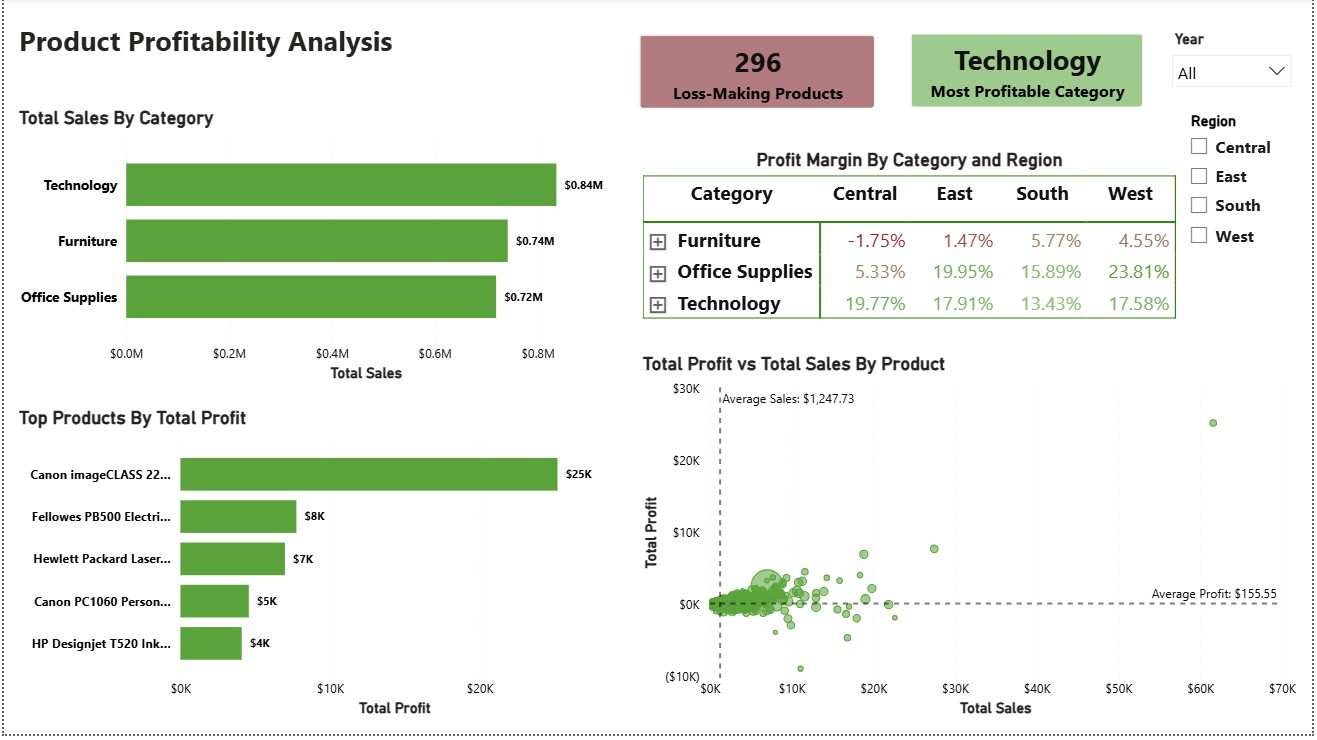

This screenshot's page, from the dashboard's own definition file:
{"tool":"powerbi","page":{"name":"Product Analysis","canvas":[1280,720],"ordinal":1},"visuals":[{"type":"clusteredBarChart","title":"Top Products By Total Profit ","fields":{"Y":["superstore.Total Profit"],"Category":["superstore.Short Product Name"]},"box":[9.8,399.9,601.6,308.2],"z":0},{"type":"scatterChart","title":"Total Profit vs Total Sales By Product","fields":{"X":["Sum(superstore.Sales)"],"Y":["Sum(superstore.Profit)"],"Category":["superstore.Product Name"],"Size":["Sum(superstore.Quantity)"]},"box":[620,347.3,649.3,360.7],"z":1000},{"type":"pivotTable","title":"Profit Margin By Category and Region","fields":{"Columns":["superstore.Region"],"Values":["superstore.Profit Margin %"],"Rows":["superstore.Category Hierarchy.Category","superstore.Category Hierarchy.Sub-Category"]},"box":[620,148,531.9,183.4],"z":2000},{"type":"textbox","box":[9.8,18.3,451.2,56.3],"z":3000},{"type":"slicer","fields":{"Values":["Date Table.Year"]},"box":[1132.3,26.9,137,66],"z":4000},{"type":"slicer","fields":{"Values":["superstore.Region"]},"box":[1148.2,106.4,121.1,155.3],"z":5000},{"type":"cardVisual","fields":{"Data":["superstore.Loss-Making Products Count"]},"box":[604.1,18.3,265.4,107.6],"z":6000},{"type":"cardVisual","fields":{"Data":["superstore.Most Profitable Category"]},"box":[869.4,17.1,262.9,107],"z":7000},{"type":"clusteredBarChart","title":"Total Sales By Category ","fields":{"Category":["superstore.Category Hierarchy.Category","superstore.Category Hierarchy.Sub-Category"],"Y":["superstore.Total Sales"]},"box":[9.8,106.4,601.6,273.9],"z":8000}]}

Visuals, with their boxes in screenshot pixels (x1, y1, x2, y2), scaled from the page's 1280x720 canvas onto the 1317x740 screenshot:
"Top Products By Total Profit " clusteredBarChart: [10,411,629,728]
"Total Profit vs Total Sales By Product" scatterChart: [638,357,1306,728]
"Profit Margin By Category and Region" pivotTable: [638,152,1185,341]
textbox: [10,19,474,77]
slicer - Date Table.Year: [1165,28,1306,95]
slicer - superstore.Region: [1181,109,1306,269]
cardVisual - superstore.Loss-Making Products Count: [622,19,895,129]
cardVisual - superstore.Most Profitable Category: [895,18,1165,128]
"Total Sales By Category " clusteredBarChart: [10,109,629,391]
